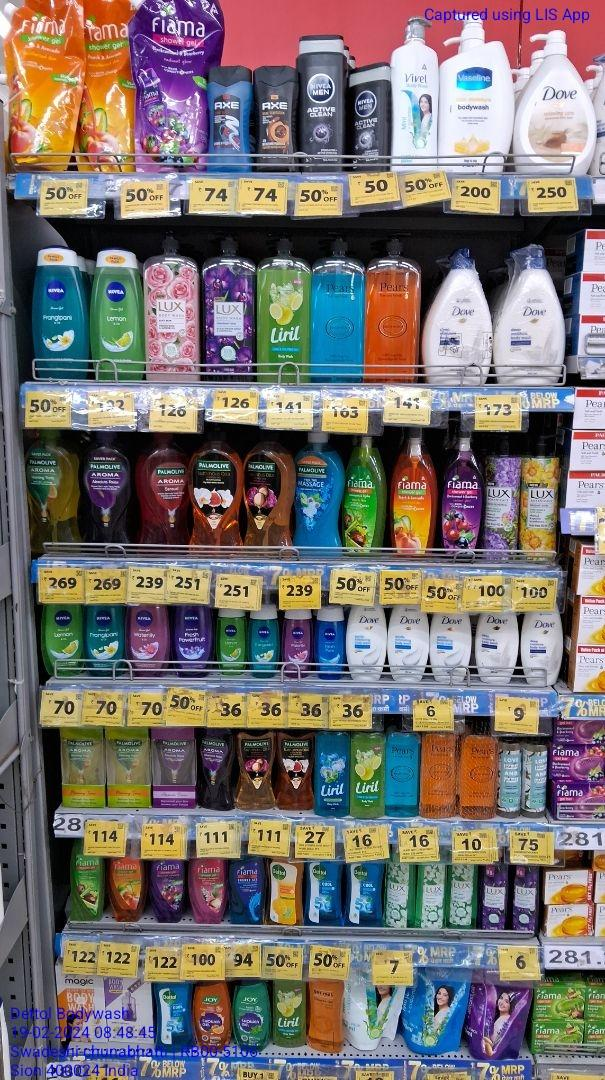Dettol_Bodywash_Cool: (345, 863, 385, 926), (306, 858, 343, 926)
Dettol_Bodywash_Refresh: (265, 856, 304, 926)
Dove_Deep_Moisture_Body_Wash_250ML: (475, 611, 518, 688), (521, 613, 561, 687)
Dove_Gentle_Exfoliating_Body_Wash_250ML: (346, 604, 387, 685), (389, 605, 429, 683), (431, 612, 471, 684)
Fiama_Shower_Gel_Lemongrass_and_Jojoba_250ML: (71, 842, 104, 921)
Fiama_Shower_Gel_Patchouli_and_Macadamia_250ML: (189, 855, 226, 925)
Fiama_Shower_Gel_Peach_and_Avocado_250ML: (110, 855, 145, 923)
Nivea_Shower_Gel_Frangipani_and_Oil_250ML: (33, 249, 88, 382), (84, 603, 125, 677)
Nivea_Shower_Gel_Fresh_Powerfruit_250ML: (175, 602, 211, 678)
Nivea_Shower_Gel_Lemon_and_Oil_250ML: (91, 249, 144, 383), (42, 603, 83, 677)
Nivea_Shower_Gel_Waterlily_and_Oil_250ML: (129, 602, 170, 676)
